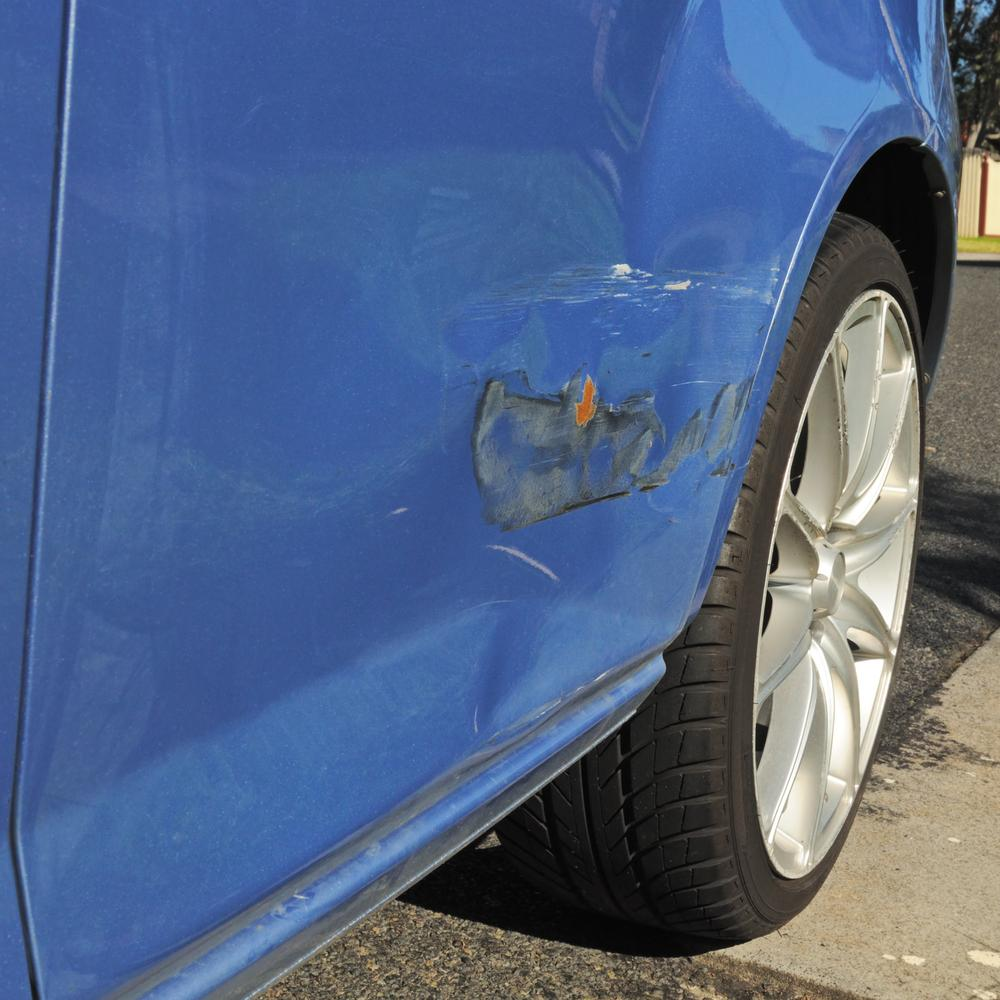dent: (434, 235, 751, 726)
